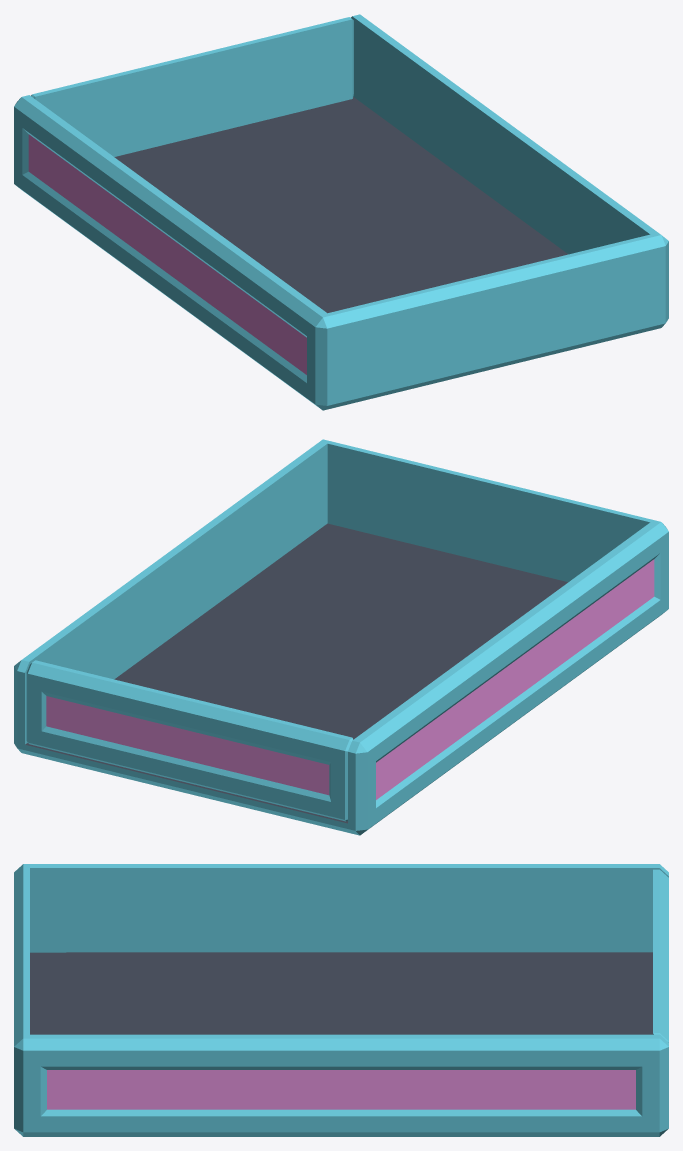
The model's file is OffroadCargo.fbx.
3 renders of one model, top to bottom at view 1: azimuth 30°, elevation 25°; view 2: azimuth 150°, elevation 25°; view 3: azimuth 270°, elevation 25°, orthographic. The views are drawn at different scales.
Parts seen in each view (by area): view 1: OffroadCargo, OffroadCargoDoor; view 2: OffroadCargo, OffroadCargoDoor; view 3: OffroadCargo, OffroadCargoDoor.
Boxes of the visible parts, x1,y1,x2,y2 form: OffroadCargo: (14,14,668,410); OffroadCargoDoor: (31,17,353,156); OffroadCargo: (14,439,668,835); OffroadCargoDoor: (26,660,352,821); OffroadCargo: (14,864,668,1136); OffroadCargoDoor: (653,869,668,1042).
Size of the model in its own units: 185 by 46.64 by 282.
